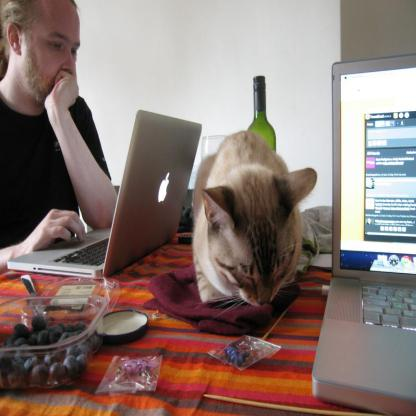board: (312, 53, 416, 416), (6, 107, 200, 280), (248, 74, 278, 153)
